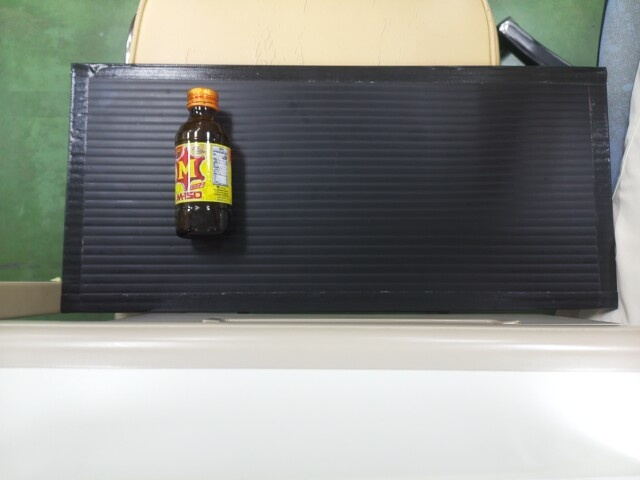glass_bottle: (172, 87, 232, 238)
